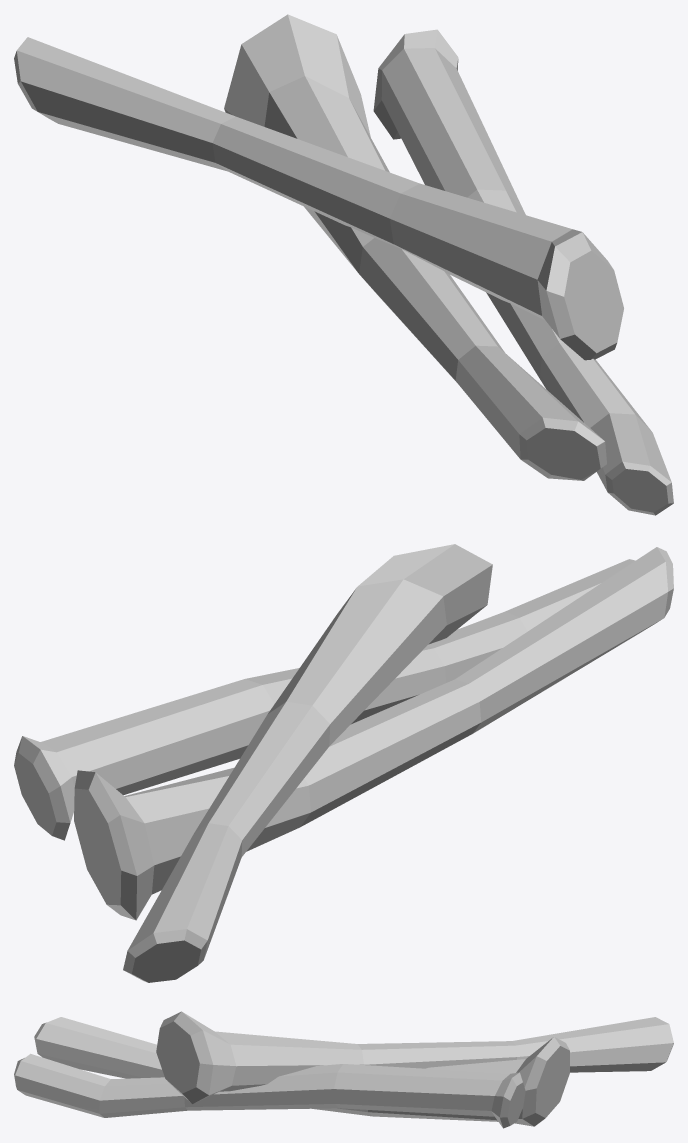
File: Bones_04.fbx
3 renders of one model, top to bottom at view 1: azimuth 30°, elevation 25°; view 2: azimuth 150°, elevation 25°; view 3: azimuth 270°, elevation 25°, orthographic. The views are drawn at different scales.
Visible parts, largest first — view 1: Bones_02; view 2: Bones_02; view 3: Bones_02.
Part boxes in pixels (x1,y1,x2,y2): Bones_02: [14, 14, 673, 515]; Bones_02: [14, 544, 673, 982]; Bones_02: [14, 1011, 673, 1128].
Size of the model in its own units: 19.78 by 10.66 by 61.27.
